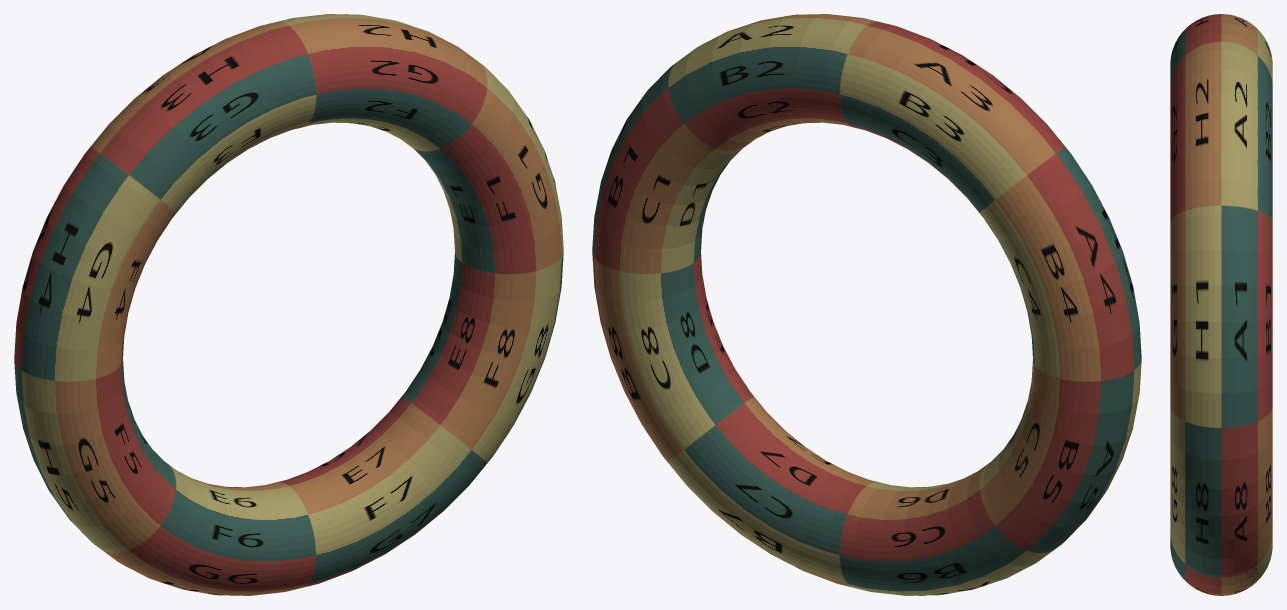
Rendered from texture_torus_R14_r8.glb.
3 renders of one model, left to right at view 1: azimuth 30°, elevation 25°; view 2: azimuth 150°, elevation 25°; view 3: azimuth 270°, elevation 25°, orthographic. The views are drawn at different scales.
Parts seen in each view (by area): view 1: world; view 2: world; view 3: world.
Part boxes in pixels (left/top/right/bottom): world: left=14, top=14, right=563, bottom=595; world: left=592, top=14, right=1141, bottom=595; world: left=1170, top=14, right=1272, bottom=595.
Size of the model in its own units: 23.47 by 23.42 by 4.13.
1 material, 1 textured.
